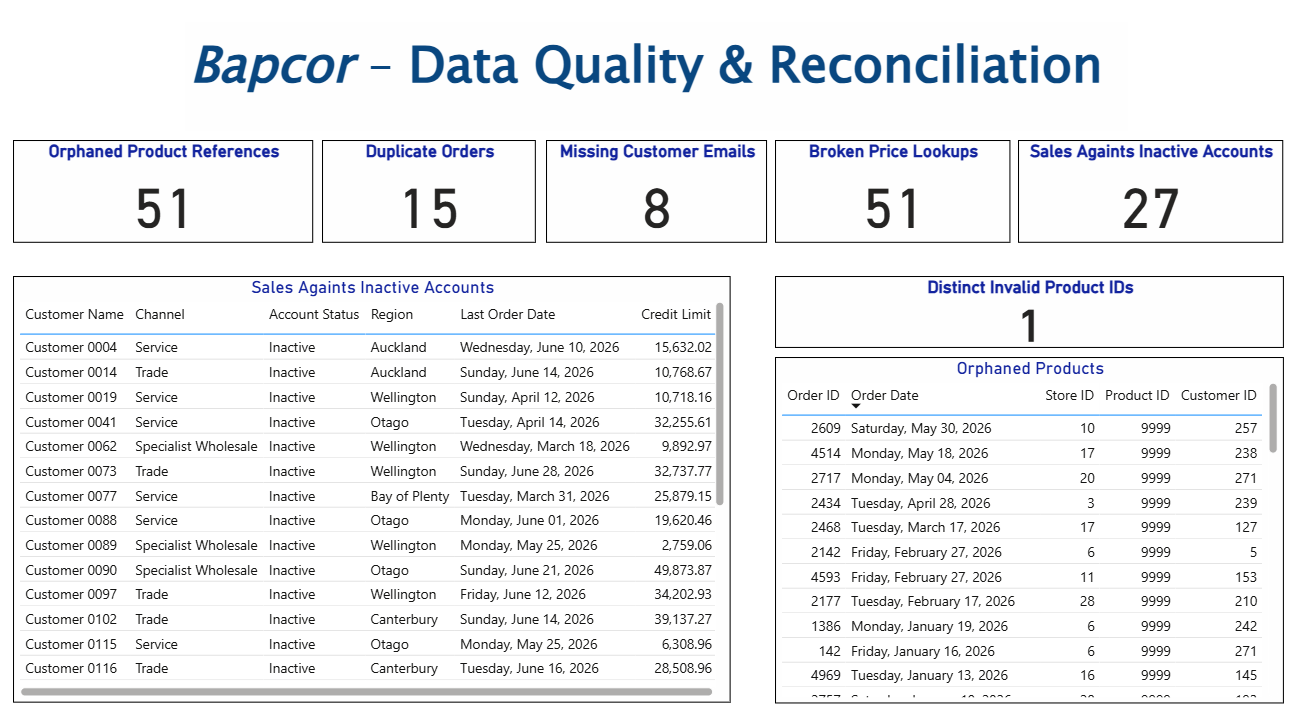

This screenshot's page, from the dashboard's own definition file:
{"tool":"powerbi","page":{"name":"Data Quality","canvas":[1280,720],"ordinal":2},"visuals":[{"type":"card","title":"Orphaned Product References","fields":{"Values":["CountNonNull(bapcor_bi vw_orphaned_products.order_id)"]},"box":[19.7,153.3,292,100.5],"z":0},{"type":"card","title":"Duplicate Orders","fields":{"Values":["CountNonNull(bapcor_bi vw_duplicate_orders.product_id)"]},"box":[320,153.3,208.2,100.5],"z":1},{"type":"card","title":"Missing Customer Emails","fields":{"Values":["CountNonNull(bapcor_bi vw_missing_emails.customer_id)"]},"box":[537.5,153.3,215.4,100.5],"z":2},{"type":"card","title":"Broken Price Lookups","fields":{"Values":["CountNonNull(bapcor_bi vw_null_totals.order_id)"]},"box":[760.1,153.3,228.9,100.5],"z":3},{"type":"card","title":"Sales Againts Inactive Accounts","fields":{"Values":["CountNonNull(bapcor_bi vw_inactive_with_sales.customer_id)"]},"box":[997.3,153.3,257.9,100.5],"z":4},{"type":"tableEx","title":"Sales Againts Inactive Accounts","fields":{"Values":["bapcor_bi vw_inactive_with_sales.customer_name","bapcor_bi vw_inactive_with_sales.channel","bapcor_bi vw_inactive_with_sales.account_status","bapcor_bi vw_inactive_with_sales.region","bapcor_bi vw_inactive_with_sales.last_order_date","bapcor_bi vw_inactive_with_sales.credit_limit"]},"box":[19.7,285.9,698,415.3],"z":5},{"type":"tableEx","title":"Orphaned Products","fields":{"Values":["bapcor_bi vw_orphaned_products.order_id","bapcor_bi vw_orphaned_products.order_date","bapcor_bi vw_orphaned_products.store_id","bapcor_bi vw_orphaned_products.product_id","bapcor_bi vw_orphaned_products.customer_id"]},"box":[760.1,364.6,495,336.6],"z":6},{"type":"card","title":"Distinct Invalid Product IDs","fields":{"Values":["Count(bapcor_bi vw_orphaned_products.product_id)"]},"box":[760.1,285.9,495,70.4],"z":7},{"type":"textbox","box":[186.4,39.4,916.5,105.6],"z":8}]}

Visuals, with their boxes in screenshot pixels (x1, y1, x2, y2), scaled from the page's 1280x720 canvas onto the 1299x711 screenshot:
"Orphaned Product References" card: [20,151,316,251]
"Duplicate Orders" card: [325,151,536,251]
"Missing Customer Emails" card: [545,151,764,251]
"Broken Price Lookups" card: [771,151,1004,251]
"Sales Againts Inactive Accounts" card: [1012,151,1274,251]
"Sales Againts Inactive Accounts" tableEx: [20,282,728,692]
"Orphaned Products" tableEx: [771,360,1274,692]
"Distinct Invalid Product IDs" card: [771,282,1274,352]
textbox: [189,39,1119,143]
